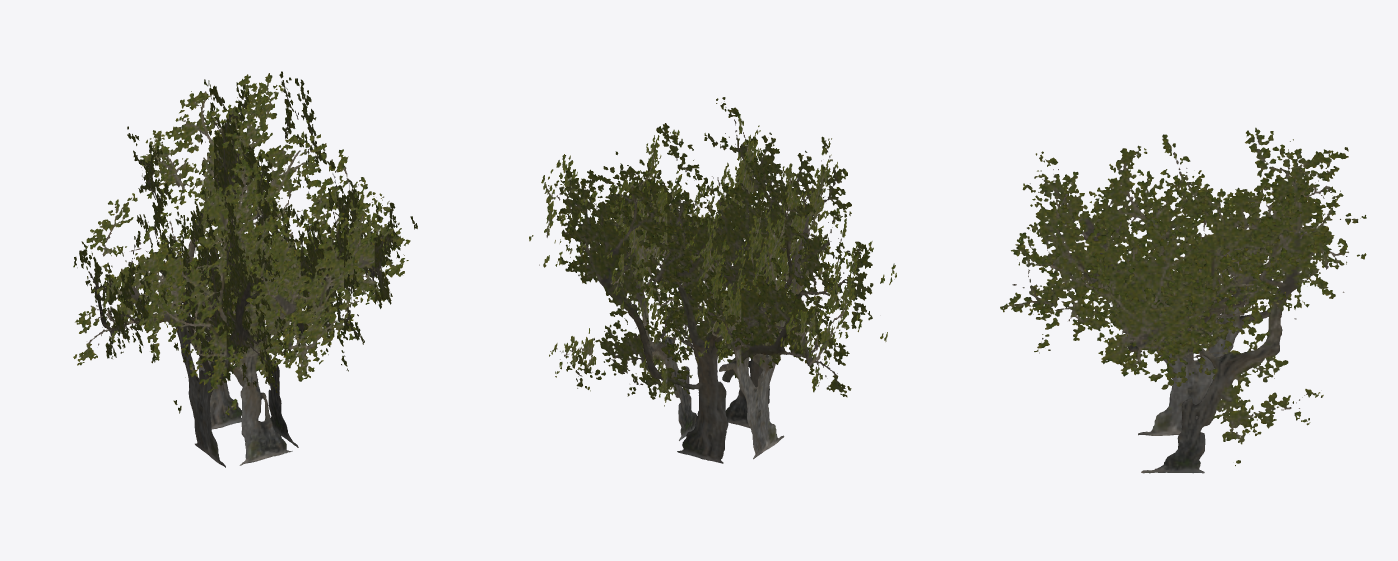
The model's file is broadleaf.glb.
The picture shows the model from 3 angles, left to right: view 1: azimuth 30°, elevation 25°; view 2: azimuth 150°, elevation 25°; view 3: azimuth 270°, elevation 25°; orthographic projection. The views are drawn at different scales.
Visible parts, largest first — view 1: broadleaf; view 2: broadleaf; view 3: broadleaf.
Boxes of the visible parts, bbox=[...] form: broadleaf: bbox=[73, 71, 417, 467]; broadleaf: bbox=[529, 97, 896, 463]; broadleaf: bbox=[1000, 127, 1366, 473].
Bounding box in the file's own units: 5.23 × 5.23 × 5.23.
Materials: 1 (1 with a texture image).
